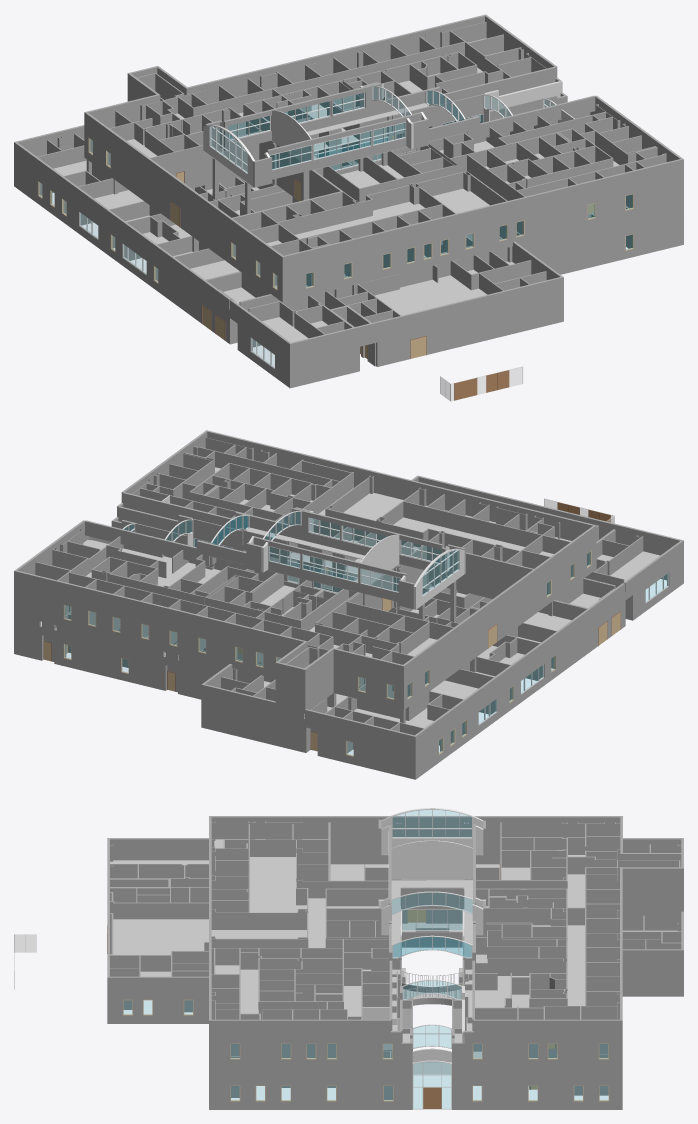
File: b1-clinic.glb
3 views of the same model, one above another, from view 1: azimuth 30°, elevation 25°; view 2: azimuth 150°, elevation 25°; view 3: azimuth 270°, elevation 25° (orthographic). The views are drawn at different scales.
Parts seen in each view (by area): view 1: model; view 2: model; view 3: model.
Boxes of the visible parts, bbox=[...] form: model: bbox=[14, 14, 683, 401]; model: bbox=[14, 430, 683, 779]; model: bbox=[14, 808, 683, 1109].
Bounding box in the file's own units: 52.69 × 14.53 × 66.1.
